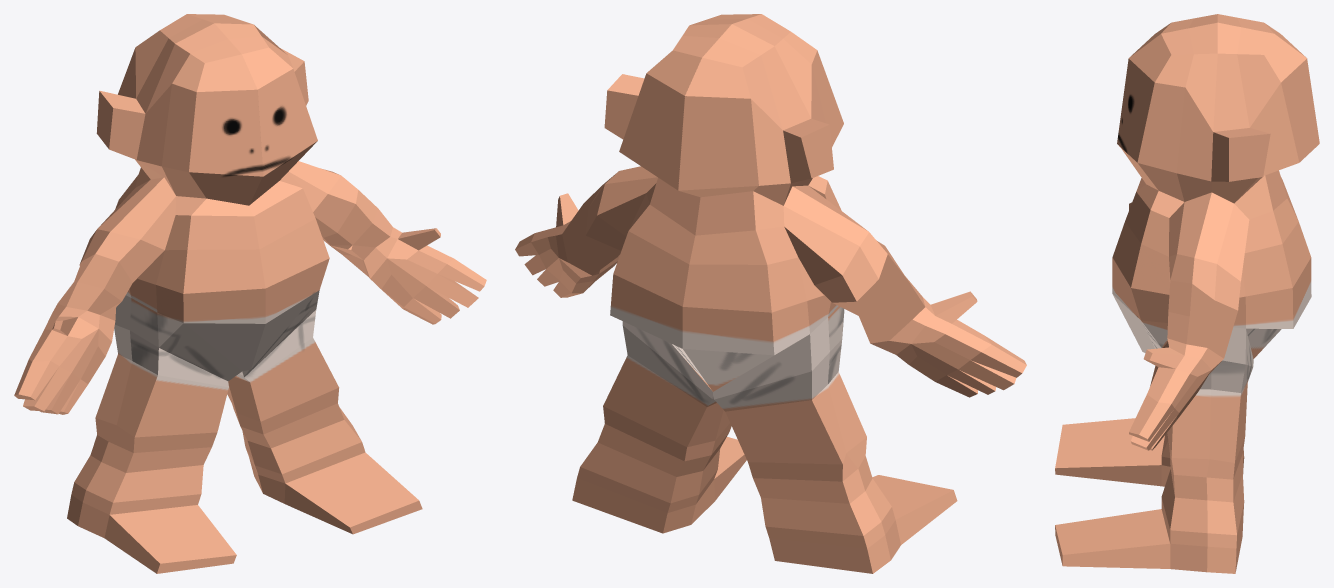
The model's file is characterBaby01.FBX.
The picture shows the model from 3 angles, left to right: view 1: azimuth 30°, elevation 25°; view 2: azimuth 150°, elevation 25°; view 3: azimuth 270°, elevation 25°; orthographic projection. The views are drawn at different scales.
Parts seen in each view (by area): view 1: characterBaby; view 2: characterBaby; view 3: characterBaby.
Boxes of the visible parts, x1,y1,x2,y2 form: characterBaby: (14, 14, 486, 573); characterBaby: (515, 14, 1026, 573); characterBaby: (1055, 14, 1319, 573).
Bounding box in the file's own units: 116 × 113 × 54.96.
Materials: 1 (1 with a texture image).
